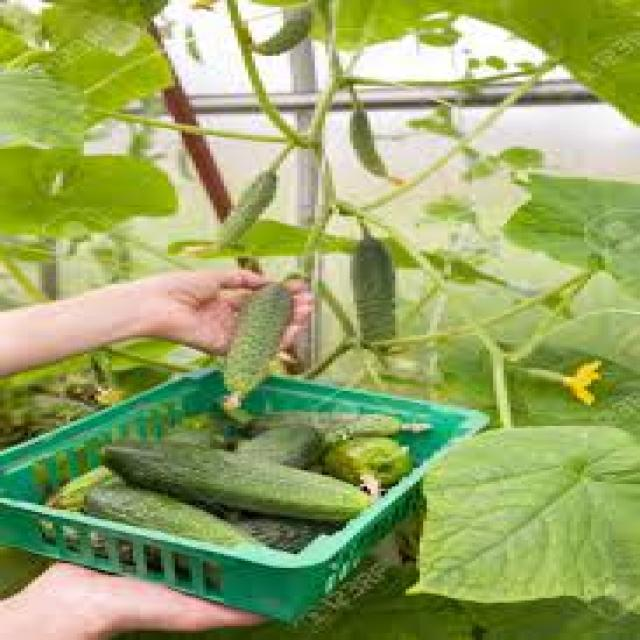basket: (0, 331, 491, 640)
